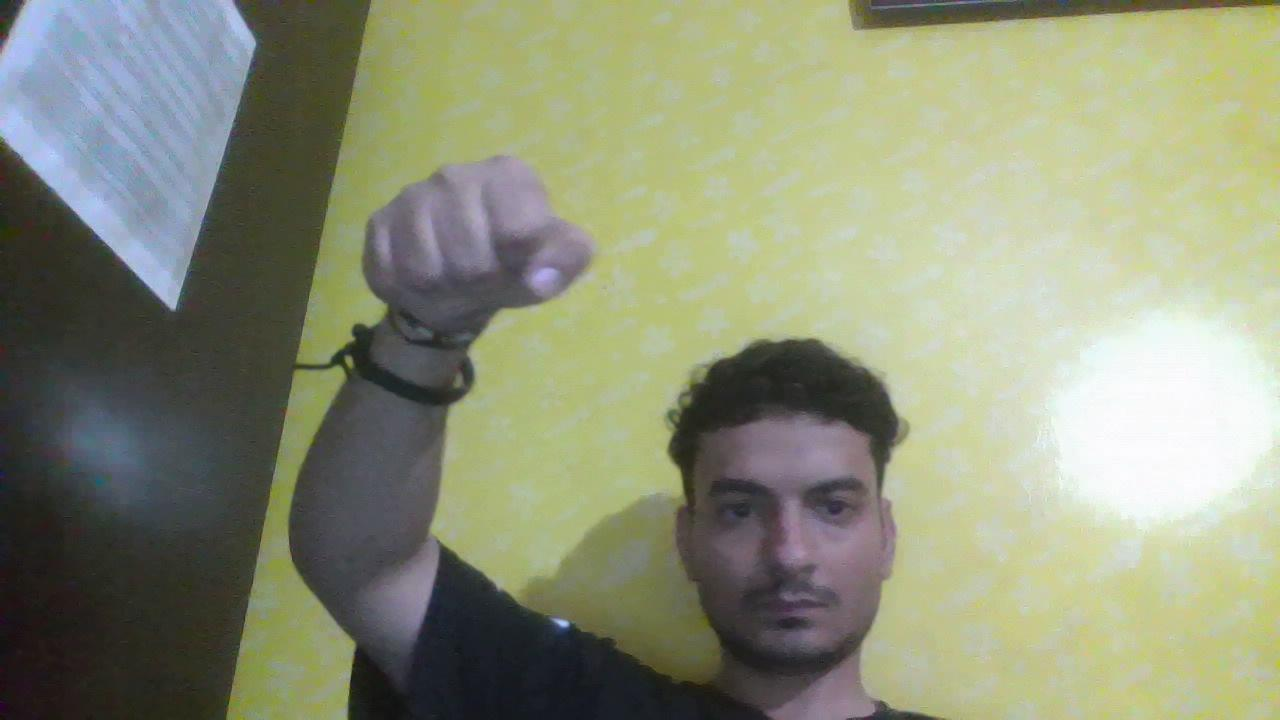Yes: (346, 158, 624, 335)
